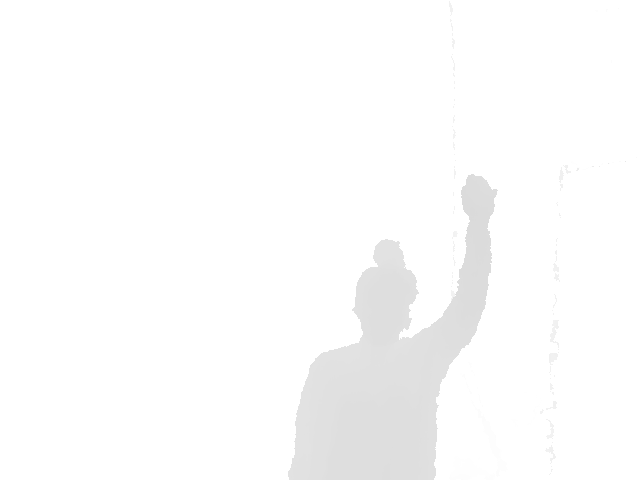hand: (461, 174, 498, 228)
head: (352, 239, 420, 342)
person: (286, 174, 499, 480)
